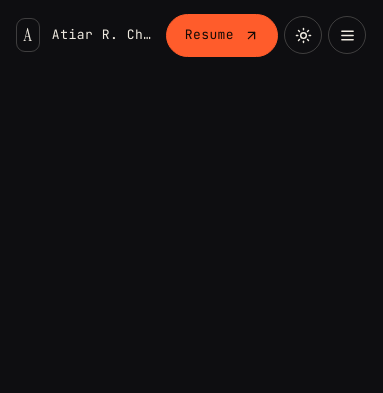
portfolio component contracts › exposes stable navigation controls and scrolls to target sections
This screenshot has width=383, height=393.
Earlier steps of the test are not shown.
Click the button with test id "mobile-menu-toggle".
click(347, 35)  # box [328,16,366,54]
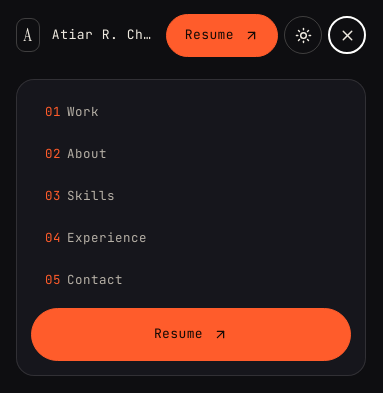
Check: the element with test id "mobile-navigation" is shown
Check: the button with test id "mobile-nav-link-contact" is shown, box [31,262,351,298]
